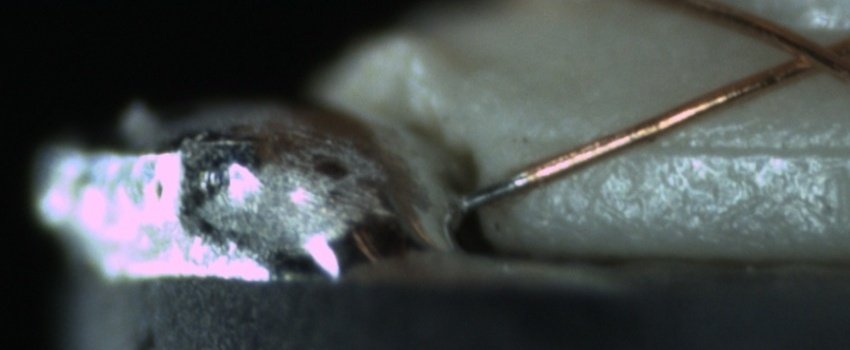CL: (765, 27, 847, 83)
DL: (546, 118, 850, 179)
TS: (458, 170, 528, 212)
TTCW: (457, 158, 544, 213)
